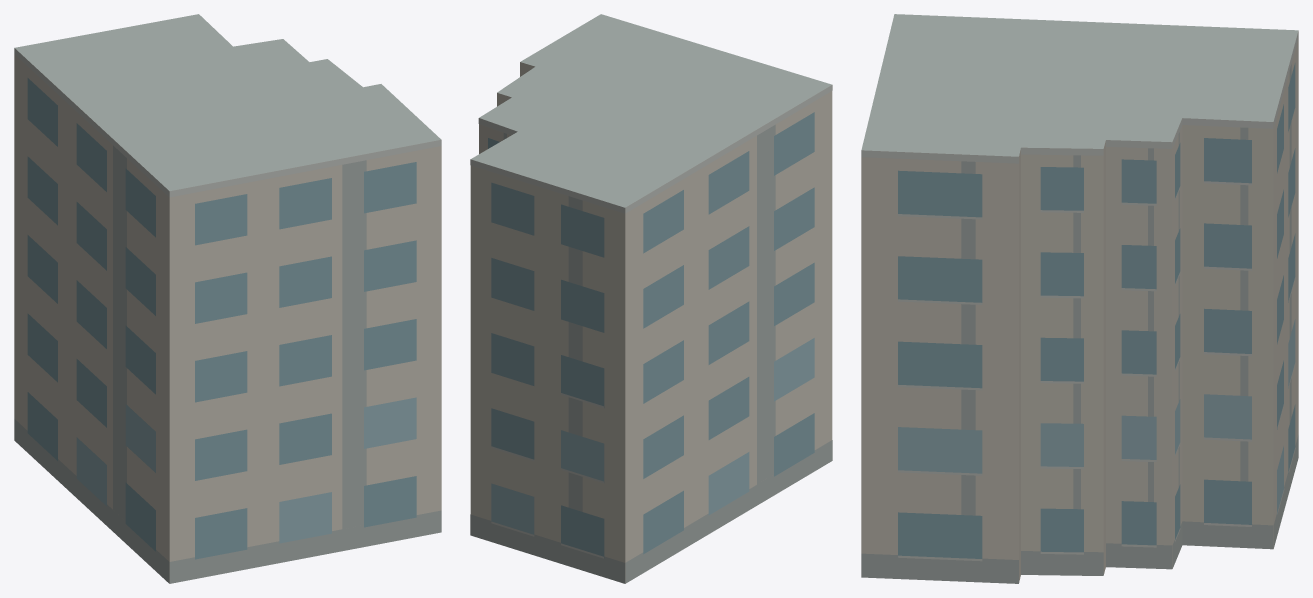
The model's file is residential-518dbc06-ffaf-4bc2-9dc7-46c4fe8caf68.glb.
The picture shows the model from 3 angles, left to right: view 1: azimuth 30°, elevation 25°; view 2: azimuth 150°, elevation 25°; view 3: azimuth 270°, elevation 25°; orthographic projection. The views are drawn at different scales.
Visible parts, largest first — view 1: residential-518dbc06-ffaf-4bc2-9dc7-46c4fe8caf68.tmp; view 2: residential-518dbc06-ffaf-4bc2-9dc7-46c4fe8caf68.tmp; view 3: residential-518dbc06-ffaf-4bc2-9dc7-46c4fe8caf68.tmp.
Part boxes in pixels (left/top/right/bottom): residential-518dbc06-ffaf-4bc2-9dc7-46c4fe8caf68.tmp: left=14, top=14, right=441, bottom=583; residential-518dbc06-ffaf-4bc2-9dc7-46c4fe8caf68.tmp: left=470, top=14, right=832, bottom=583; residential-518dbc06-ffaf-4bc2-9dc7-46c4fe8caf68.tmp: left=861, top=14, right=1298, bottom=583.
Bounding box in the file's own units: 10.94 × 15.25 × 14.16.
